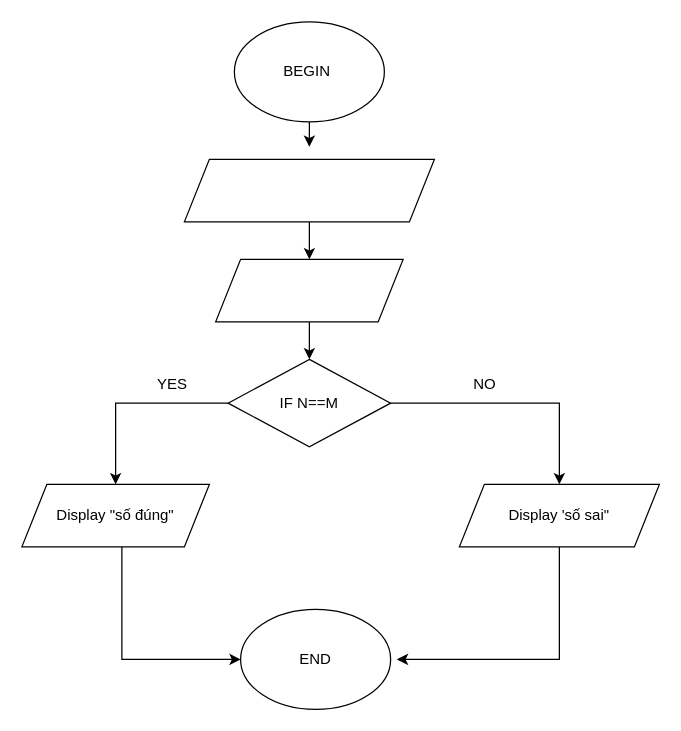
Some shapes in this 681 by 731 pixel diagram are drawn without their labels. The centre of each missing label's shape, as x and y in pixels:
"INPUT M" belongs at pixel 308 290.
"INPUT N ngẫu nhiên từ 0-9" belongs at pixel 308 190.
